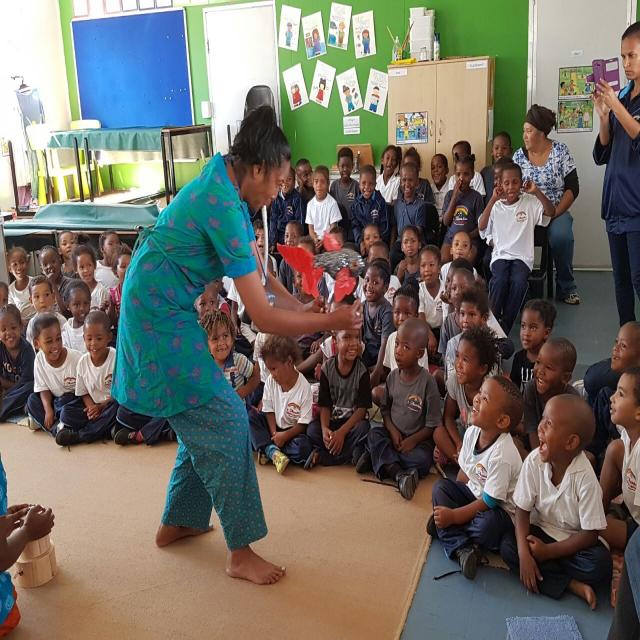body: (108, 99, 366, 589), (496, 392, 614, 612), (425, 372, 525, 581), (588, 18, 640, 325), (363, 314, 445, 501), (474, 160, 558, 340), (511, 102, 581, 306), (0, 437, 56, 639), (280, 8, 385, 115), (523, 335, 597, 471), (304, 328, 373, 473), (438, 268, 516, 394), (55, 305, 123, 449), (433, 326, 501, 468), (246, 333, 314, 474), (592, 366, 640, 556), (296, 285, 362, 414), (24, 312, 84, 448), (370, 283, 430, 410), (507, 298, 558, 432), (443, 284, 504, 390), (199, 309, 261, 412), (583, 319, 640, 412), (439, 152, 484, 268), (359, 257, 397, 388), (0, 304, 36, 422), (389, 160, 427, 268), (349, 163, 389, 259), (607, 524, 640, 640), (239, 254, 277, 352), (302, 164, 341, 255), (26, 274, 68, 358), (268, 166, 306, 254), (418, 244, 447, 359), (290, 269, 326, 353), (99, 243, 133, 331), (37, 244, 75, 321), (478, 130, 514, 211), (70, 243, 110, 315), (112, 403, 178, 446), (329, 147, 363, 230), (554, 67, 596, 132), (7, 245, 37, 328), (60, 278, 92, 355), (446, 140, 486, 200), (367, 241, 403, 307), (331, 241, 367, 304), (440, 257, 474, 323), (396, 145, 434, 204), (93, 230, 125, 295), (278, 220, 305, 296), (437, 228, 473, 282), (392, 225, 422, 287), (252, 218, 280, 283), (374, 144, 402, 209), (250, 332, 272, 409), (430, 152, 450, 232), (357, 222, 383, 280), (392, 109, 433, 144), (56, 228, 82, 280), (294, 157, 316, 205), (210, 270, 232, 316), (193, 283, 219, 320), (493, 156, 515, 188), (327, 226, 349, 251), (296, 236, 316, 256), (0, 278, 10, 310)
